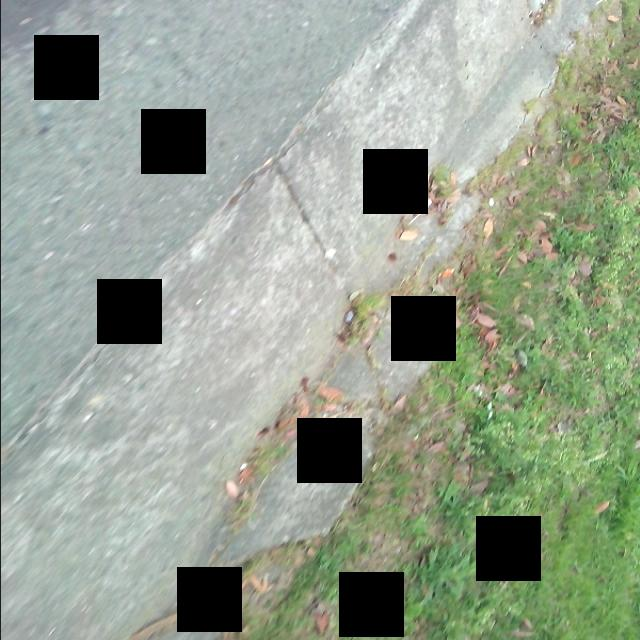DITCH: (2, 1, 635, 638), (2, 1, 619, 638)
